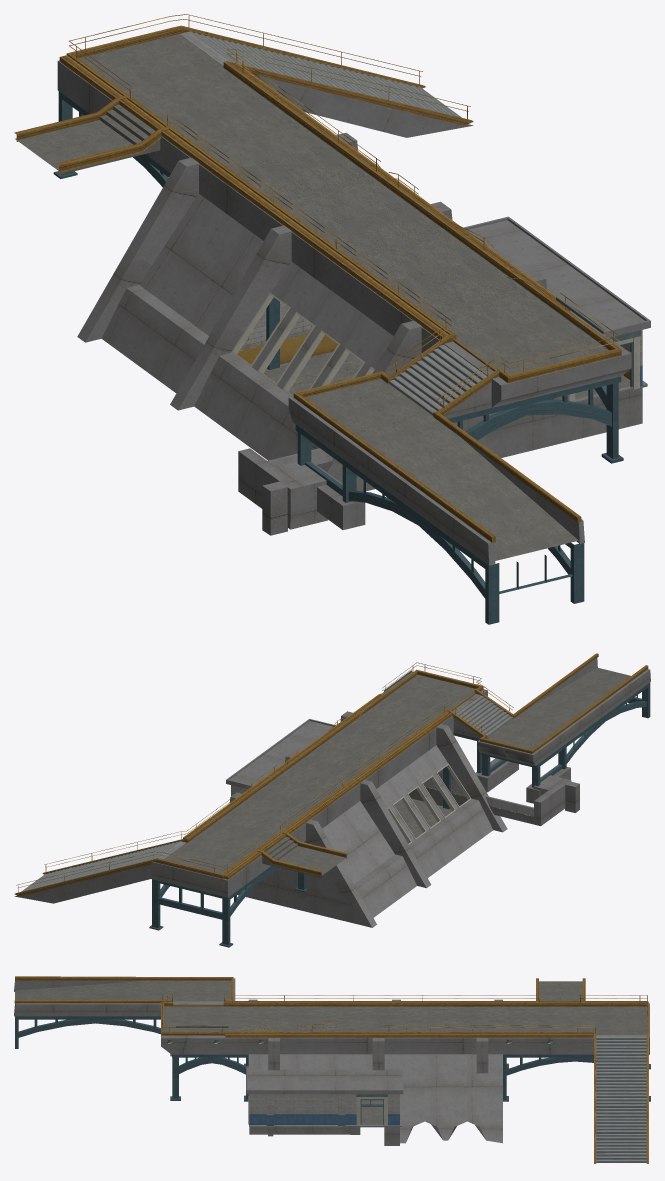
Rendered from Building_Fdc01_2048_lod1.glb.
3 renders of one model, top to bottom at view 1: azimuth 30°, elevation 25°; view 2: azimuth 150°, elevation 25°; view 3: azimuth 270°, elevation 25°, orthographic. The views are drawn at different scales.
Visible parts, largest first — view 1: xiutz_fdc_01_lod1; view 2: xiutz_fdc_01_lod1; view 3: xiutz_fdc_01_lod1.
Boxes of the visible parts, bbox=[...] form: xiutz_fdc_01_lod1: bbox=[14, 14, 650, 624]; xiutz_fdc_01_lod1: bbox=[14, 653, 650, 947]; xiutz_fdc_01_lod1: bbox=[14, 976, 650, 1163].
Bounding box in the file's own units: 37.23 × 11.03 × 66.42.
1 material, 1 textured.
